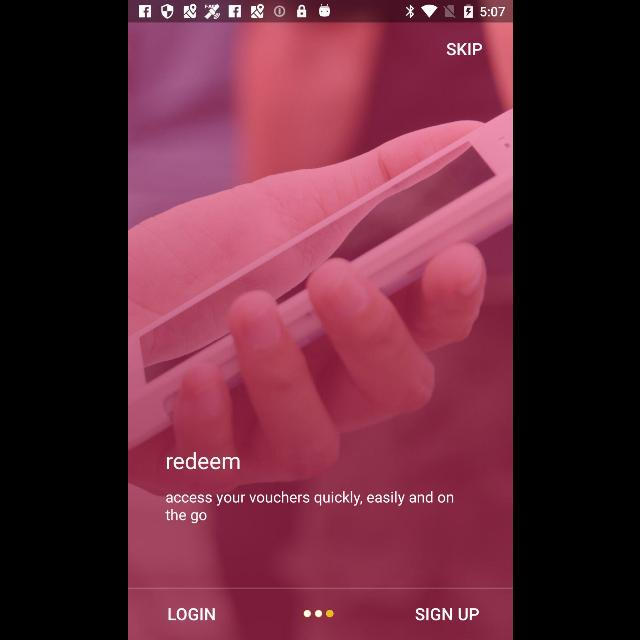backgroundimage: (128, 22, 512, 640)
pageindicator: (302, 609, 334, 617)
text: (165, 491, 453, 524), (166, 452, 238, 470), (414, 608, 478, 620), (168, 608, 215, 620), (446, 42, 482, 56)
uppertaskbar: (128, 1, 512, 23)
